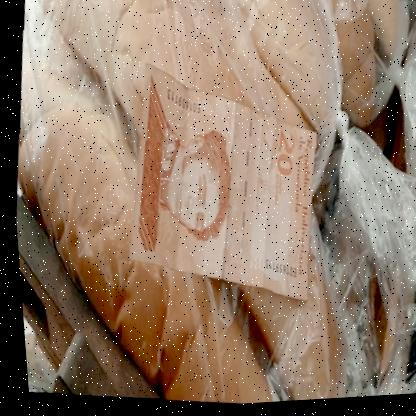twenty-front-vef: (106, 53, 331, 313)
